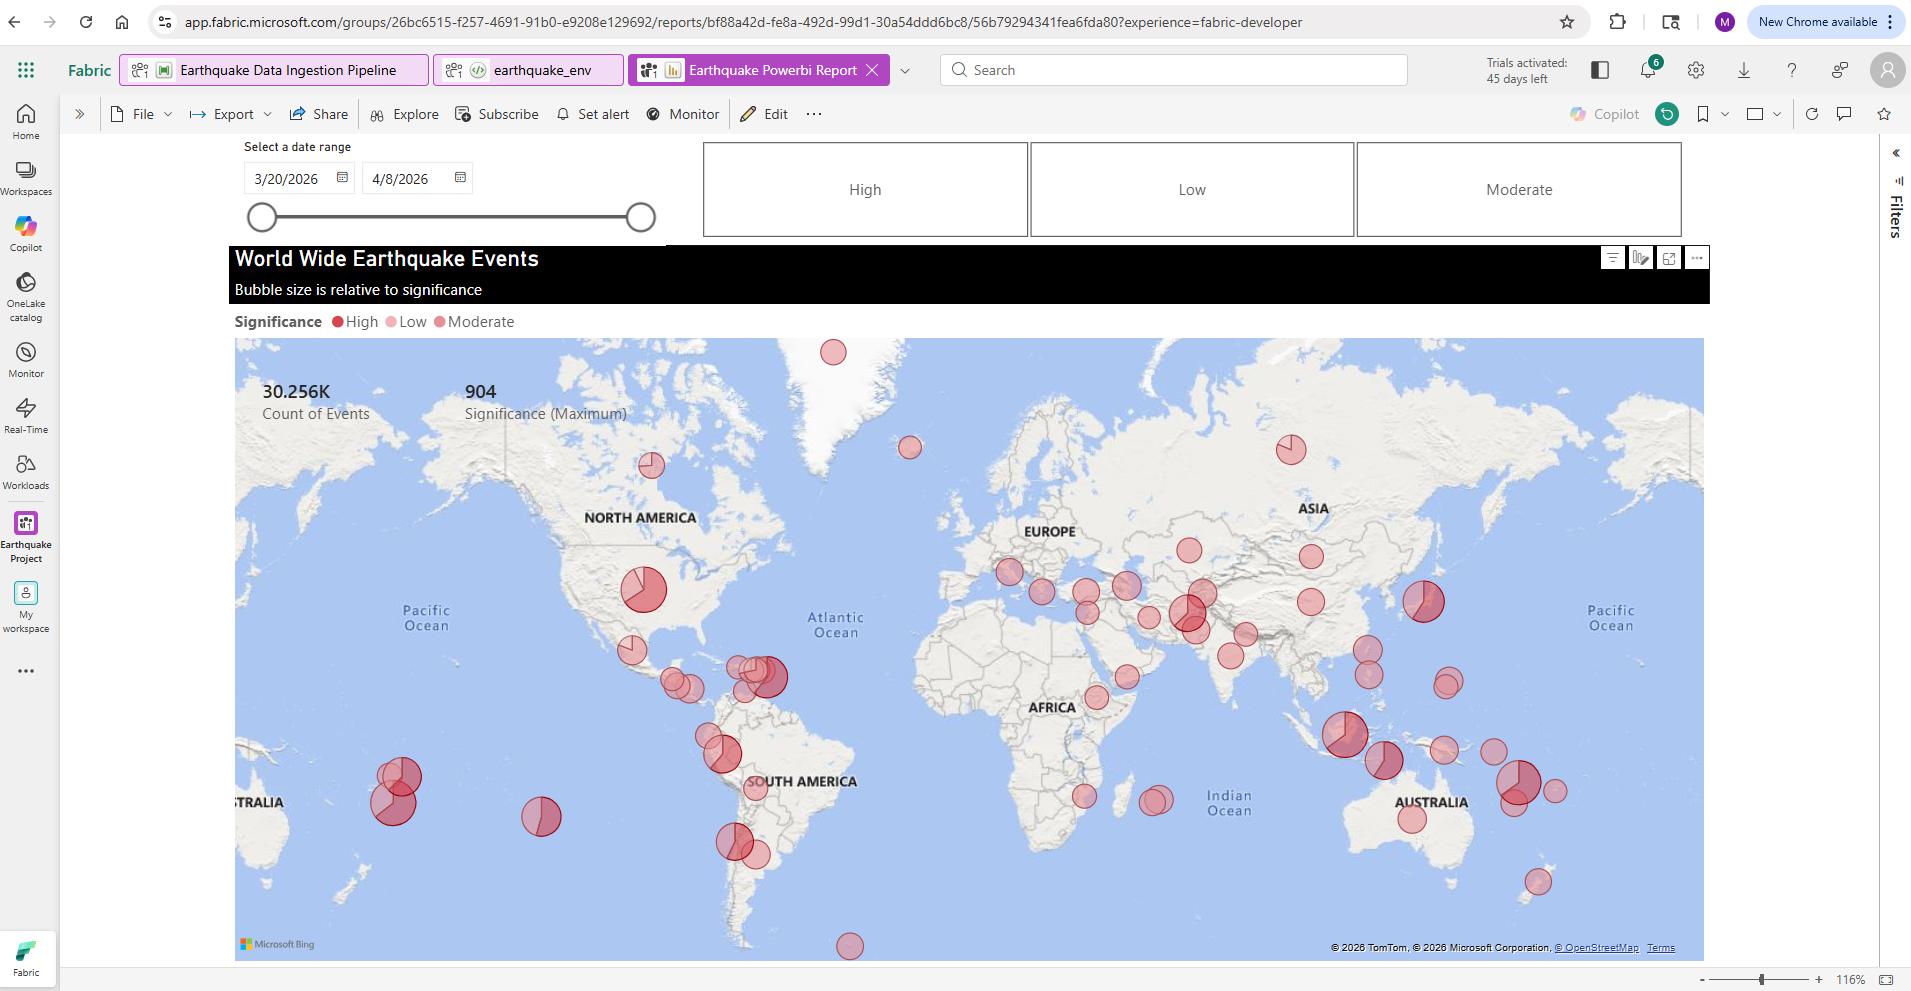

The page's visual inventory and layout, read from the dashboard file:
{"tool":"powerbi","page":{"name":"Page 2","canvas":[1280,720],"ordinal":1},"visuals":[{"type":"map","title":"World Wide Earthquake Events","fields":{"Category":["earthquake_events_gold.country_code"],"Series":["earthquake_events_gold.sig_class"],"Size":["Max(earthquake_events_gold.sig)"]},"box":[0,95.8,1280.3,624.2],"z":0},{"type":"slicer","fields":{"Values":["earthquake_events_gold.time"]},"box":[0,0,376.9,95.8],"z":1},{"type":"slicer","fields":{"Values":["earthquake_events_gold.sig_class"]},"box":[384.2,0,896.1,95.8],"z":2},{"type":"cardVisual","fields":{"Data":["CountNonNull(earthquake_events_gold.id)","Max(earthquake_events_gold.sig)"]},"box":[0,194.4,376.9,71.2],"z":3}]}

Visuals, with their boxes on the page's 1280x720 design canvas (x1, y1, x2, y2). These are canvas units, not pixel positions in the 1911x991 screenshot, which may show the page scaled, cropped or inside an application window:
"World Wide Earthquake Events" map: x1=0 y1=96 x2=1280 y2=720
slicer - earthquake_events_gold.time: x1=0 y1=0 x2=377 y2=96
slicer - earthquake_events_gold.sig_class: x1=384 y1=0 x2=1280 y2=96
cardVisual - CountNonNull(earthquake_events_gold.id) x Max(earthquake_events_gold.sig): x1=0 y1=194 x2=377 y2=266
